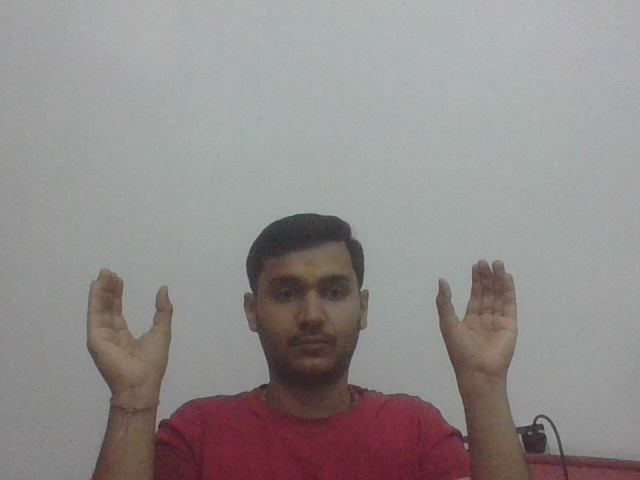U: (82, 266, 176, 398), (435, 258, 522, 382)
